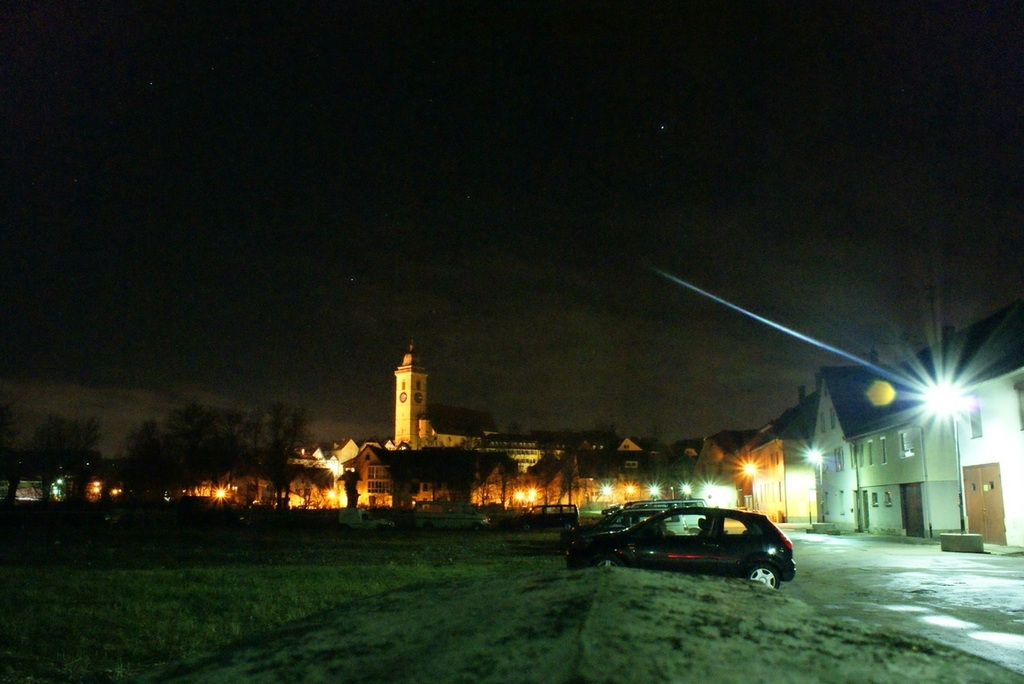Car: (568, 503, 789, 589), (514, 501, 580, 535)
